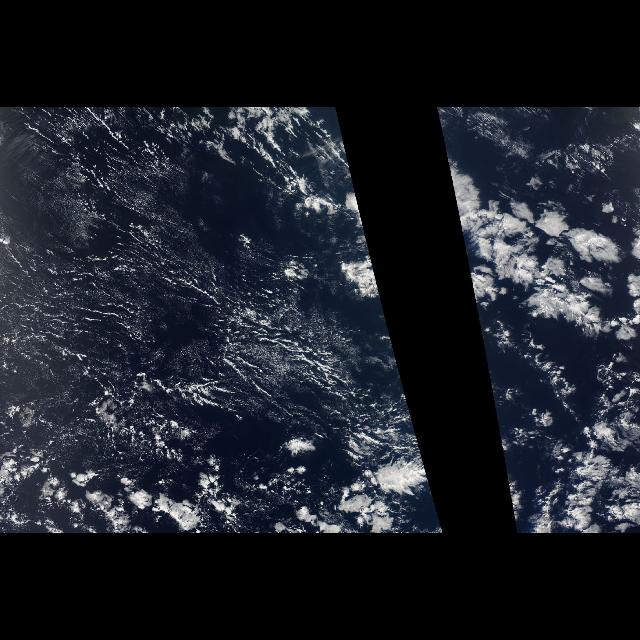Flower: (460, 182, 640, 528)
Sugar: (0, 111, 338, 467)
